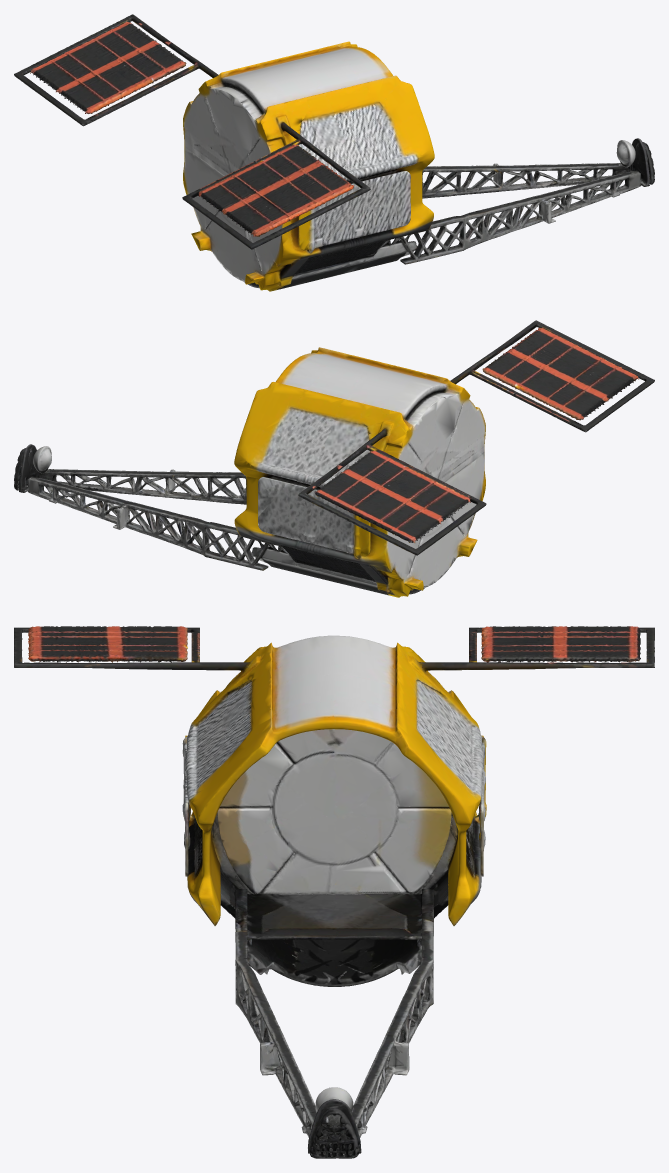
File: hwo.glb
The picture shows the model from 3 angles, top to bottom: view 1: azimuth 30°, elevation 25°; view 2: azimuth 150°, elevation 25°; view 3: azimuth 270°, elevation 25°; orthographic projection. The views are drawn at different scales.
Size of the model in its own units: 1.9 by 0.6972 by 1.52.
1 material, 1 textured.
